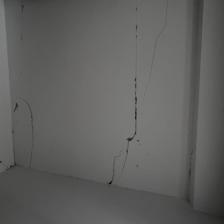Medium: (86, 37, 171, 194)
